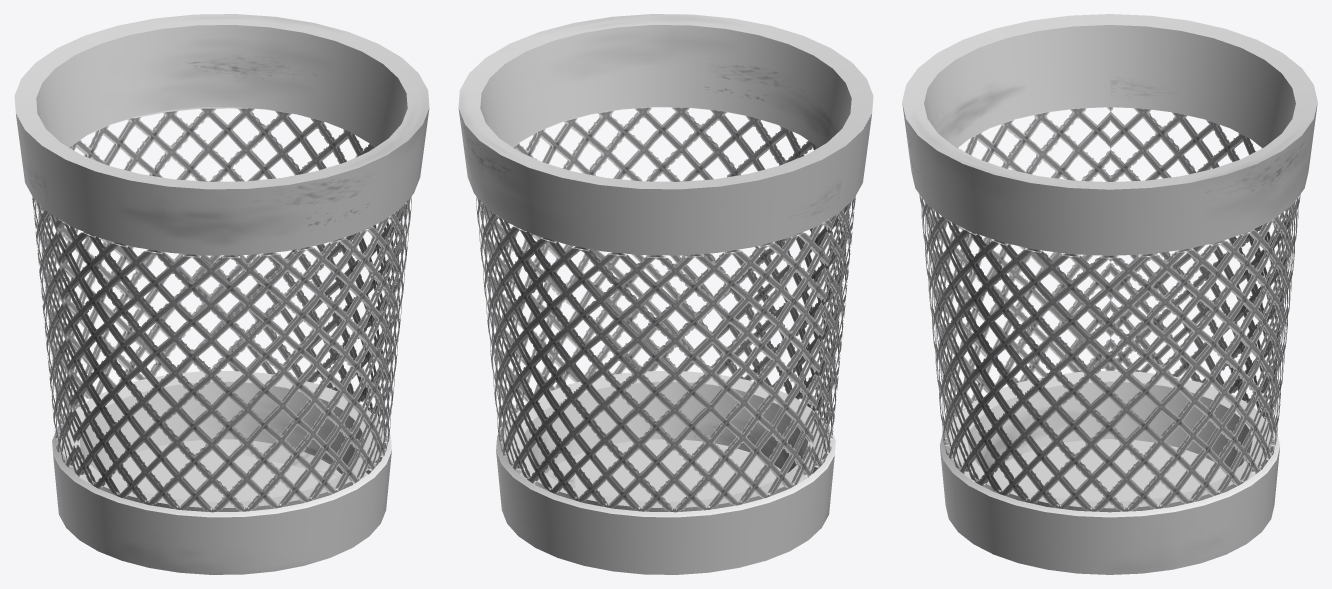
Rendered from trash.fbx.
3 renders of one model, left to right at view 1: azimuth 30°, elevation 25°; view 2: azimuth 150°, elevation 25°; view 3: azimuth 270°, elevation 25°, orthographic.
Visible parts, largest first — view 1: Cylinder; view 2: Cylinder; view 3: Cylinder.
Part boxes in pixels (x1,y1,x2,y2): Cylinder: [14, 14, 429, 574]; Cylinder: [458, 14, 873, 574]; Cylinder: [902, 14, 1317, 574].
Size of the model in its own units: 1.01 by 1.08 by 1.01.
2 materials, 2 textured.
